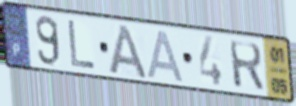4: (198, 33, 224, 89)
9: (34, 14, 61, 67)
A: (108, 22, 150, 80), (146, 28, 187, 84)
L: (66, 18, 98, 71)
R: (227, 39, 266, 94)
